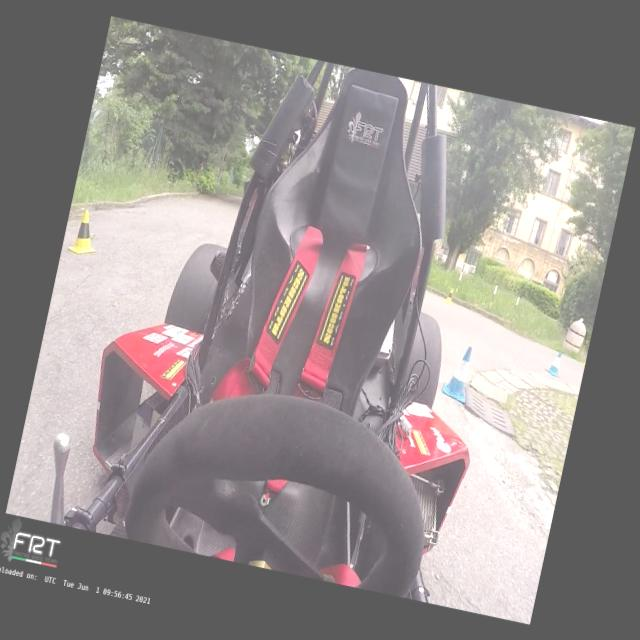blue_cone: (440, 342, 476, 403), (544, 348, 564, 377)
yellow_cone: (67, 206, 104, 256), (445, 287, 454, 303)
